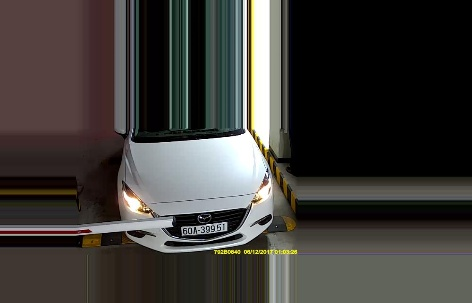plate: (181, 221, 231, 237)
